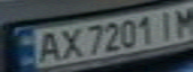0: (118, 16, 142, 50)
1: (133, 14, 160, 45)
2: (103, 19, 124, 53)
7: (81, 21, 106, 56)
A: (30, 29, 66, 64)
I: (151, 7, 181, 39)
M: (169, 2, 193, 36)
X: (54, 25, 84, 61)
